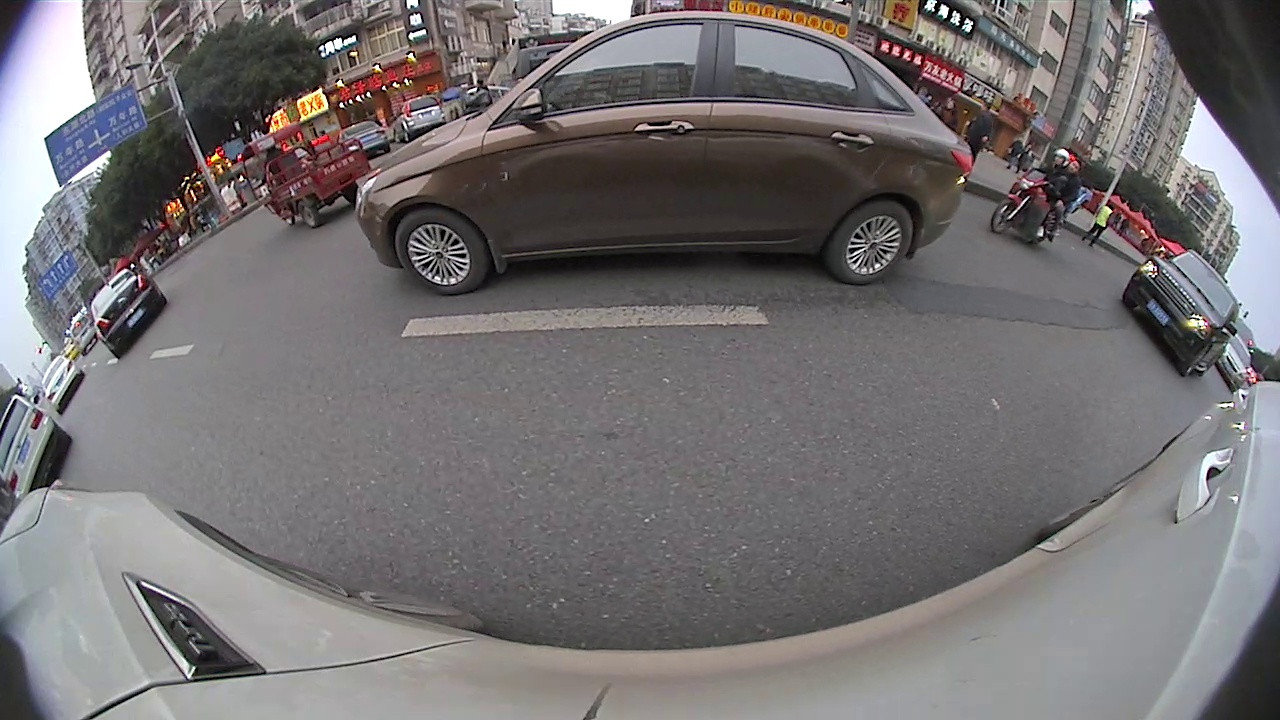car: (350, 9, 972, 299), (1118, 247, 1242, 380), (1, 391, 74, 510), (84, 263, 173, 359), (37, 352, 90, 414)
front: (389, 205, 492, 299)
rear: (826, 198, 916, 288), (296, 200, 322, 230)
rider: (238, 120, 373, 231), (990, 145, 1092, 247)
